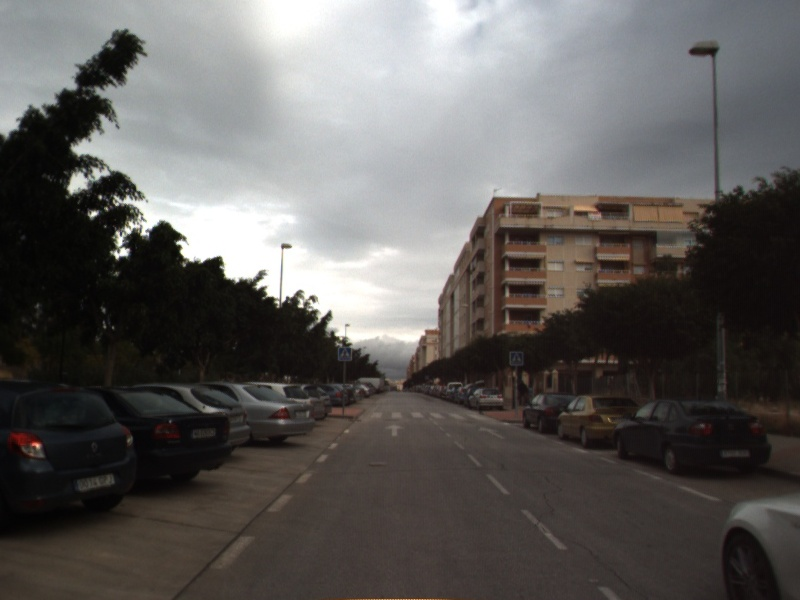STRAIGHT: (476, 424, 508, 441), (383, 422, 407, 438)
